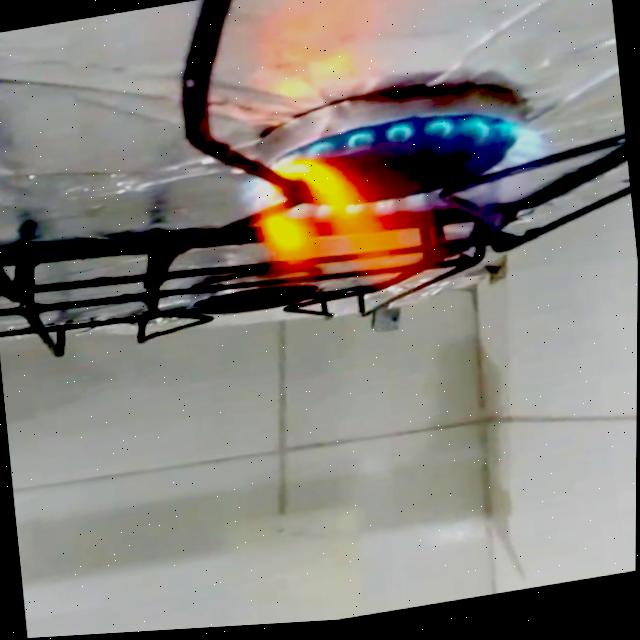Fire: (227, 103, 562, 326)
